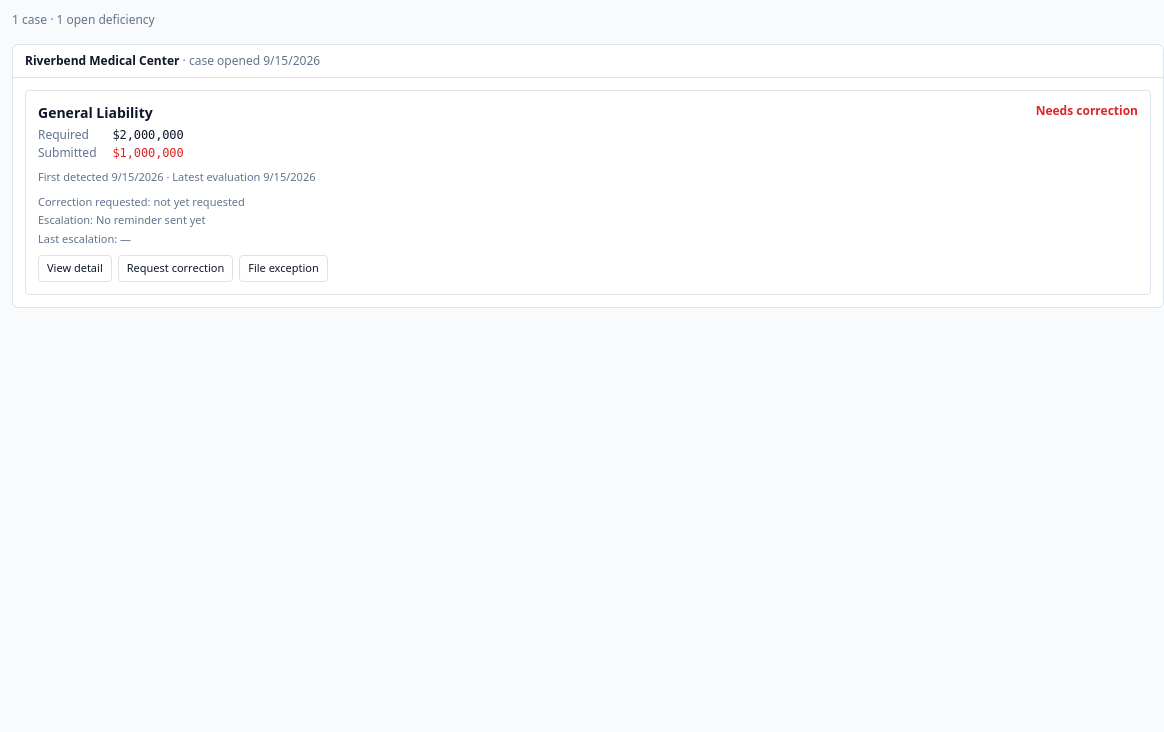
Test: ComplianceCasesSection › does not offer exception approval without the risk acknowledgement
This screenshot has width=1164, height=732.
Later steps or results of the test are not shown.
Expected: the list item with test id "deficiency-row" is shown, [25,90,1151,294]
Click the button "File exception". click: point(283, 268)
box: [239,255,328,282]
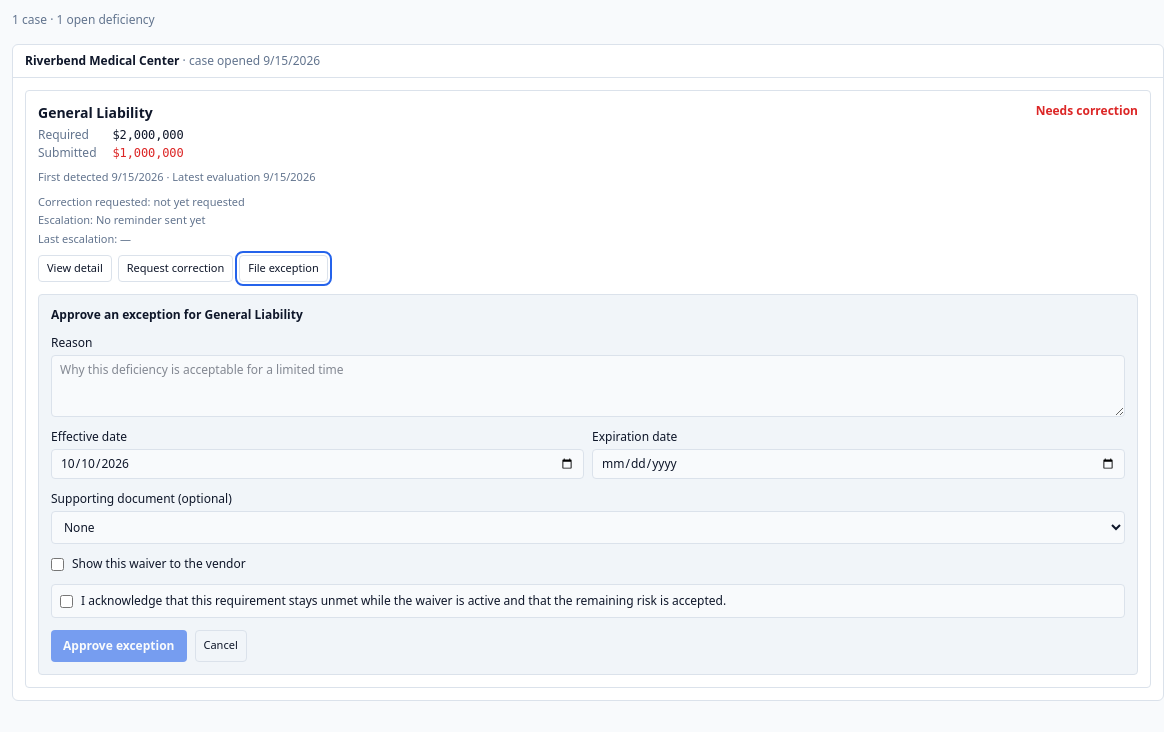
Type "Renewal in transit" into the text box labelled "Reason". click: point(588, 386)
box: [51,354,1125,416]
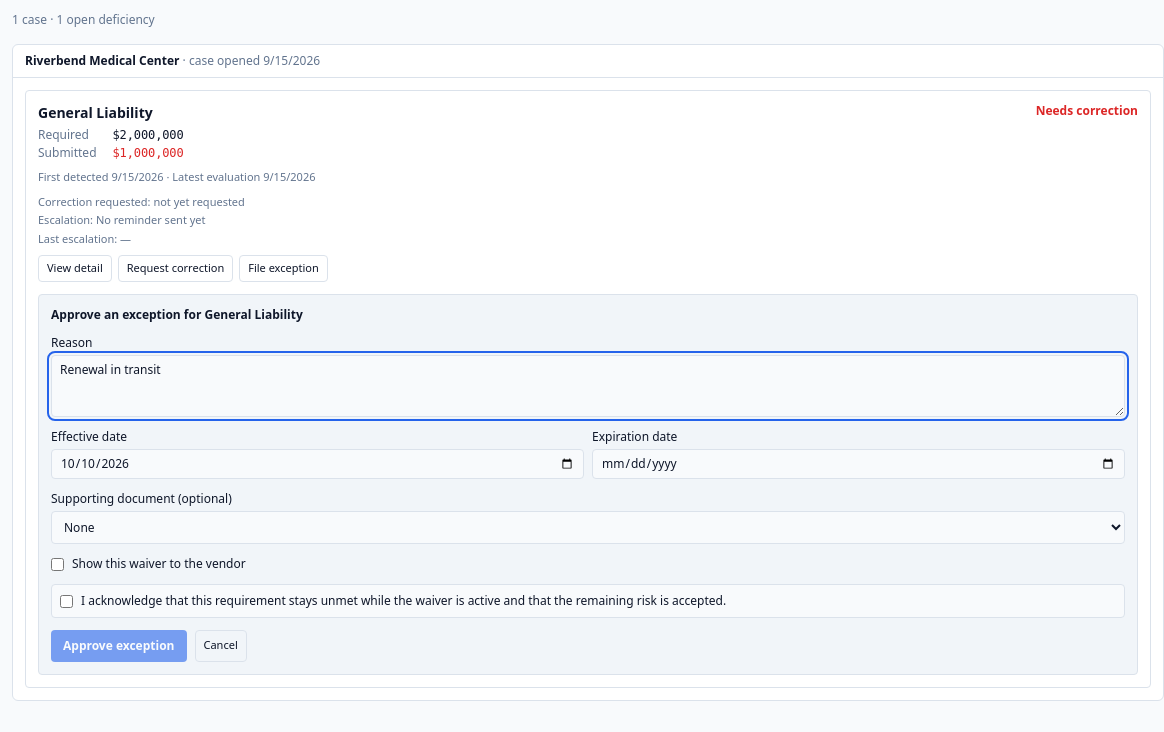
Type "2026-09-22" into the date field labelled "Effective date". click: point(318, 464)
box: [51,448,584,478]
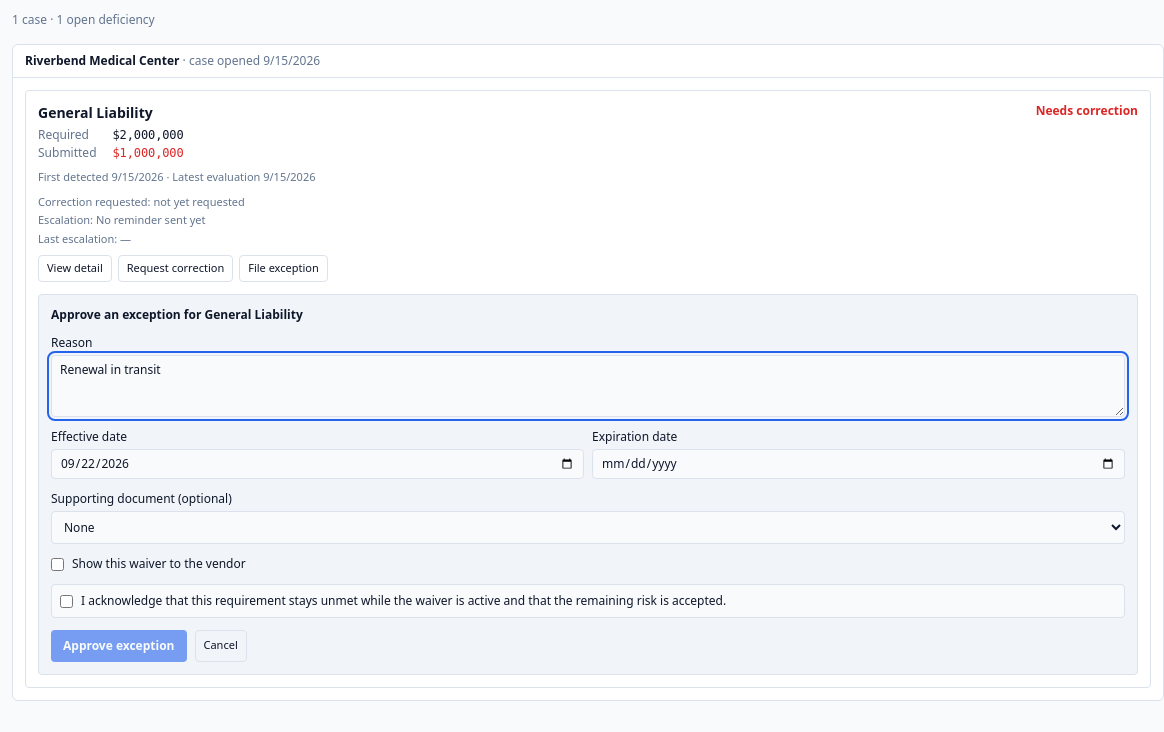
Type "2026-10-22" into the date field labelled "Expiration date". click: point(858, 464)
box: [592,448,1125,478]
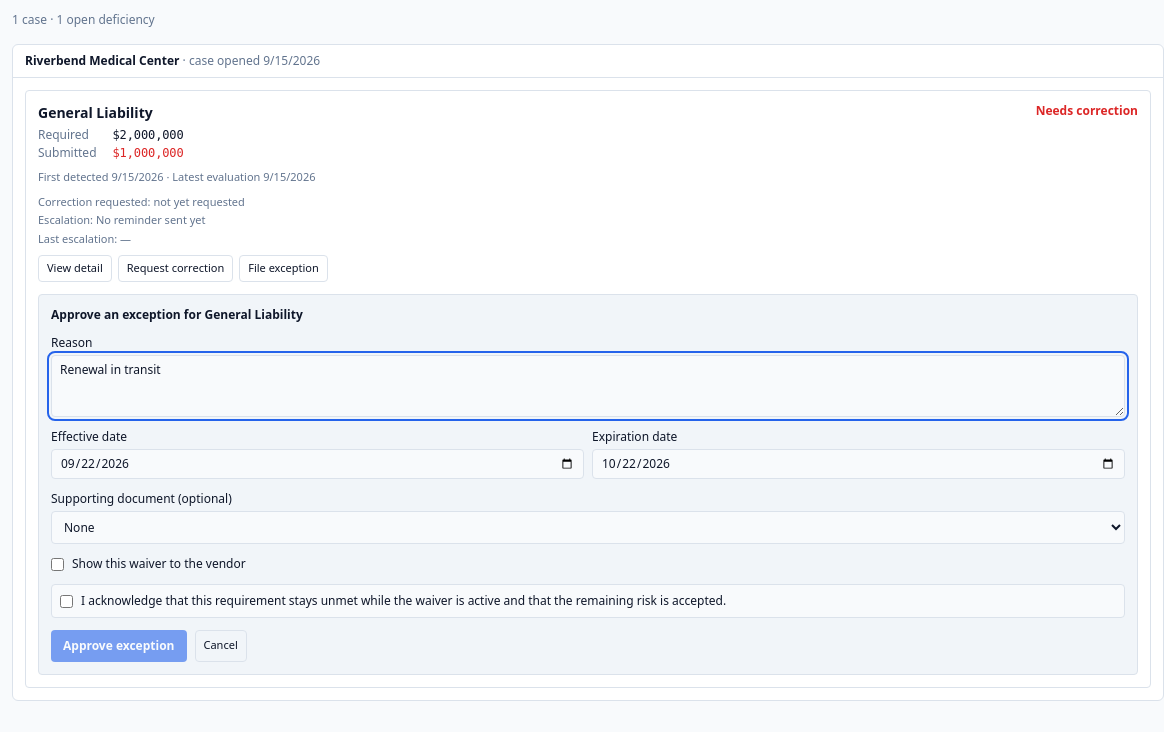
Expected: the button "Approve exception" is disabled, [51,630,186,662]
Click the 2nd checkbox. click: point(66, 601)
box: [60,594,73,608]
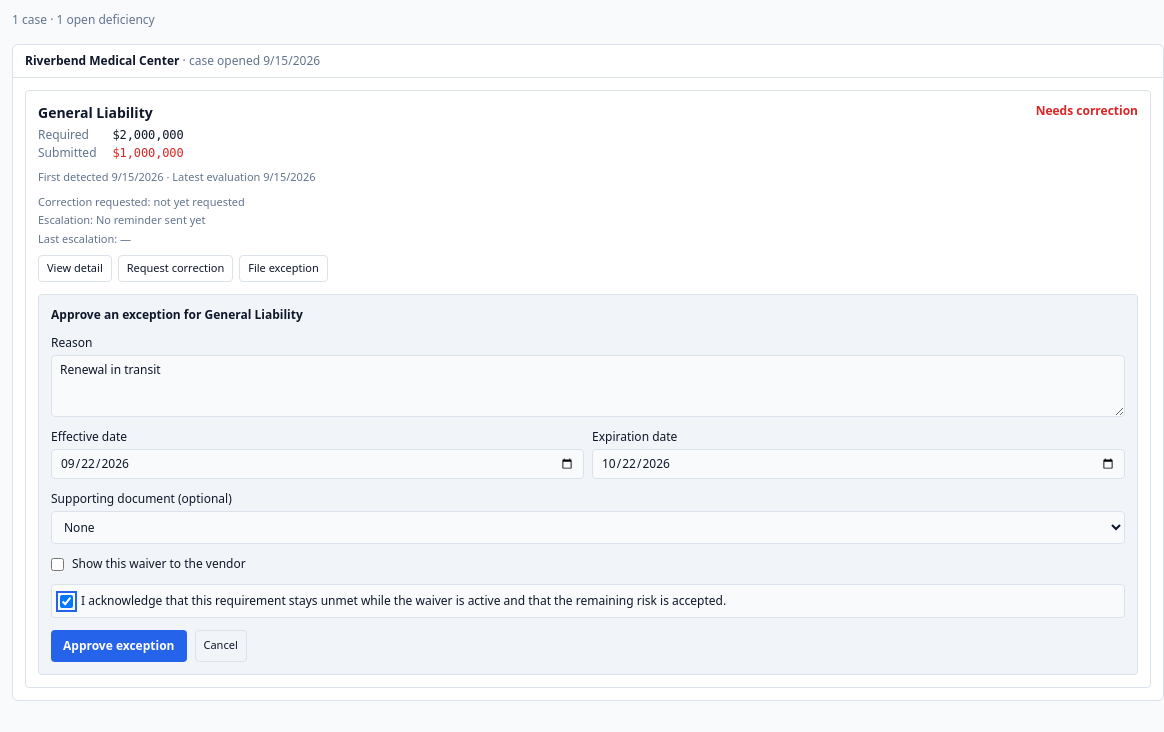
Expected: the button "Approve exception" is enabled, [51,630,186,662]
